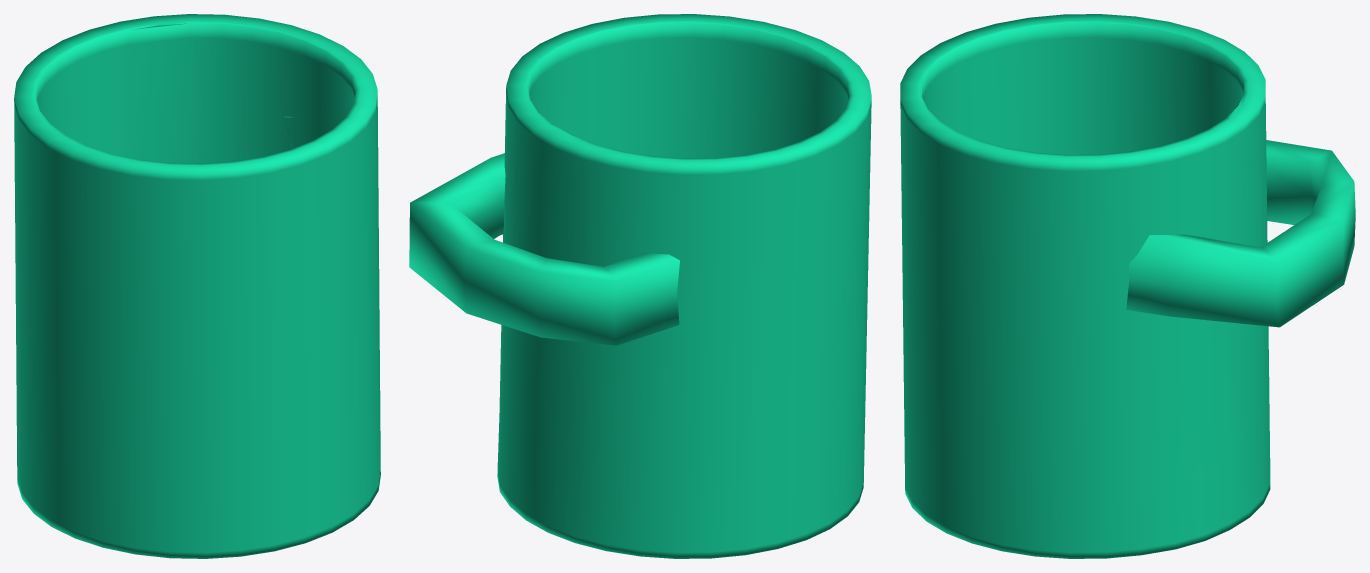
The model's file is mug.glb.
The picture shows the model from 3 angles, left to right: view 1: azimuth 30°, elevation 25°; view 2: azimuth 150°, elevation 25°; view 3: azimuth 270°, elevation 25°; orthographic projection.
Parts seen in each view (by area): view 1: Mug; view 2: Mug; view 3: Mug.
Part boxes in pixels (box(x1,y1,x2,y2)): Mug: box(14, 14, 380, 558); Mug: box(409, 14, 871, 558); Mug: box(900, 14, 1355, 558).
Bounding box in the file's own units: 1.14 × 1.27 × 1.31.
